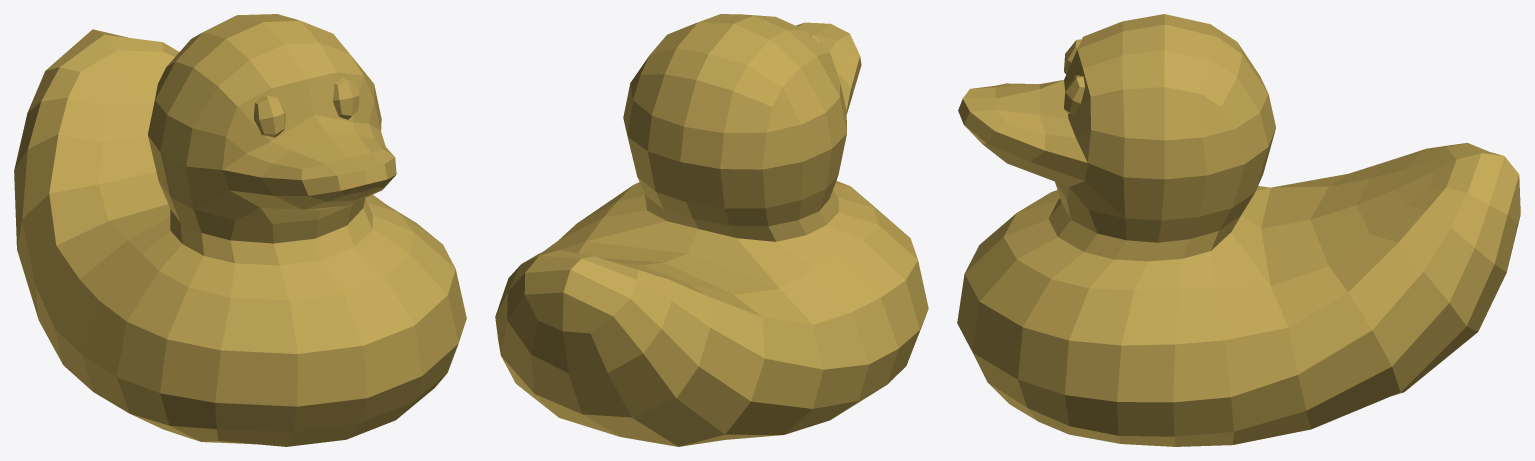
The model's file is Hat_RubberDuck.fbx.
3 views of the same model, side by side, from view 1: azimuth 30°, elevation 25°; view 2: azimuth 150°, elevation 25°; view 3: azimuth 270°, elevation 25° (orthographic). The views are drawn at different scales.
Visible parts, largest first — view 1: Hat_RubberDuck; view 2: Hat_RubberDuck; view 3: Hat_RubberDuck.
Boxes of the visible parts, <box> form: Hat_RubberDuck: <box>14,14,466,446</box>; Hat_RubberDuck: <box>495,14,928,446</box>; Hat_RubberDuck: <box>957,14,1520,446</box>.
Bounding box in the file's own units: 1.17 × 1.18 × 1.63.
